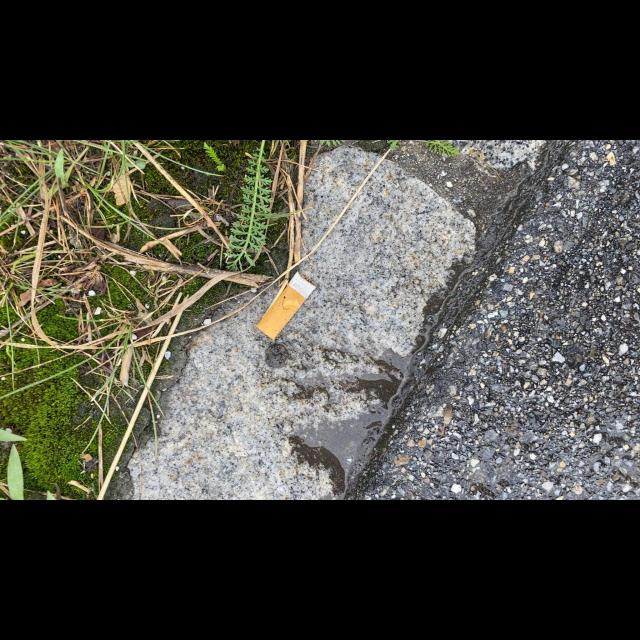cigarette: (256, 270, 316, 341)
